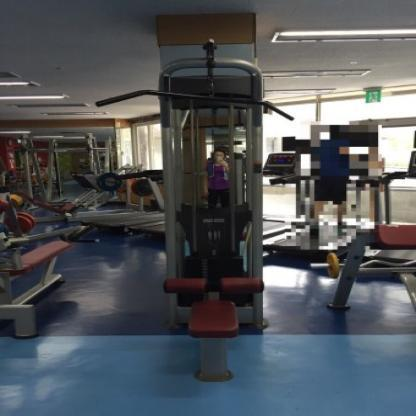Lat Pull Down: (76, 6, 334, 391)
